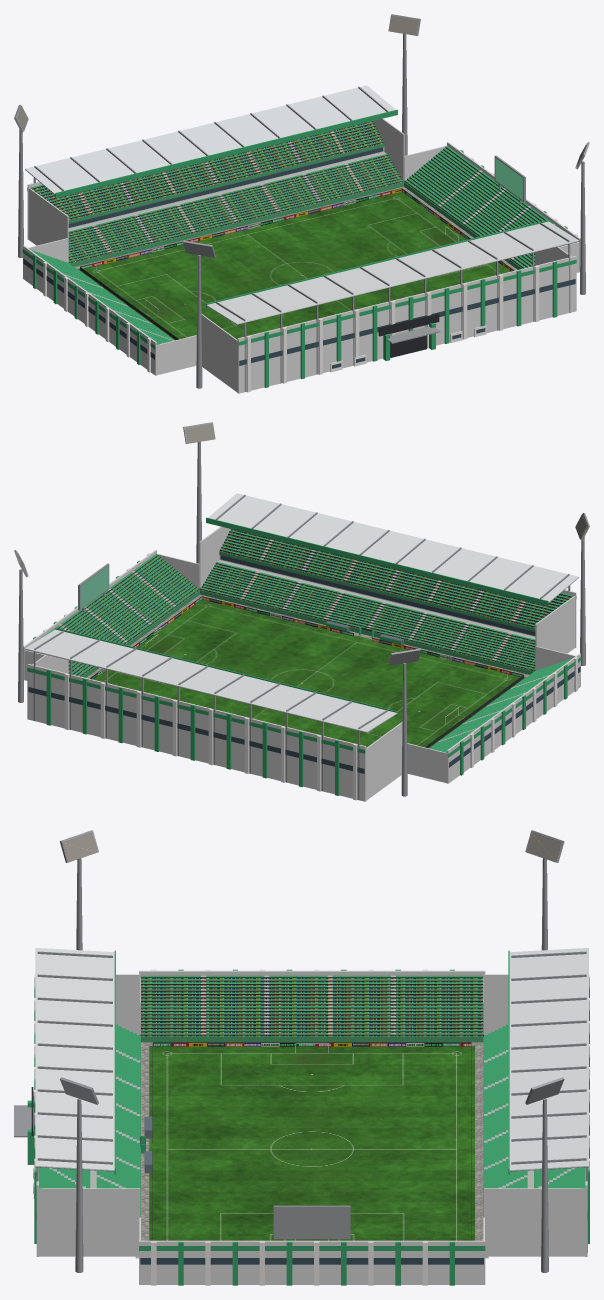
The model's file is set_stadium.glb.
3 views of the same model, one above another, from view 1: azimuth 30°, elevation 25°; view 2: azimuth 150°, elevation 25°; view 3: azimuth 270°, elevation 25° (orthographic). The views are drawn at different scales.
Parts seen in each view (by area): view 1: GR_set_stadium, GD_set_stadium; view 2: GR_set_stadium, GD_set_stadium; view 3: GR_set_stadium, GD_set_stadium.
Part boxes in pixels (x1,y1,x2,y2): GR_set_stadium: (14, 14, 589, 393); GD_set_stadium: (65, 131, 555, 340); GR_set_stadium: (14, 422, 589, 801); GD_set_stadium: (59, 539, 550, 742); GR_set_stadium: (14, 830, 589, 1285); GD_set_stadium: (49, 975, 574, 1240).
Bounding box in the file's own units: 143 × 46.38 × 127.
12 materials, 8 textured.
